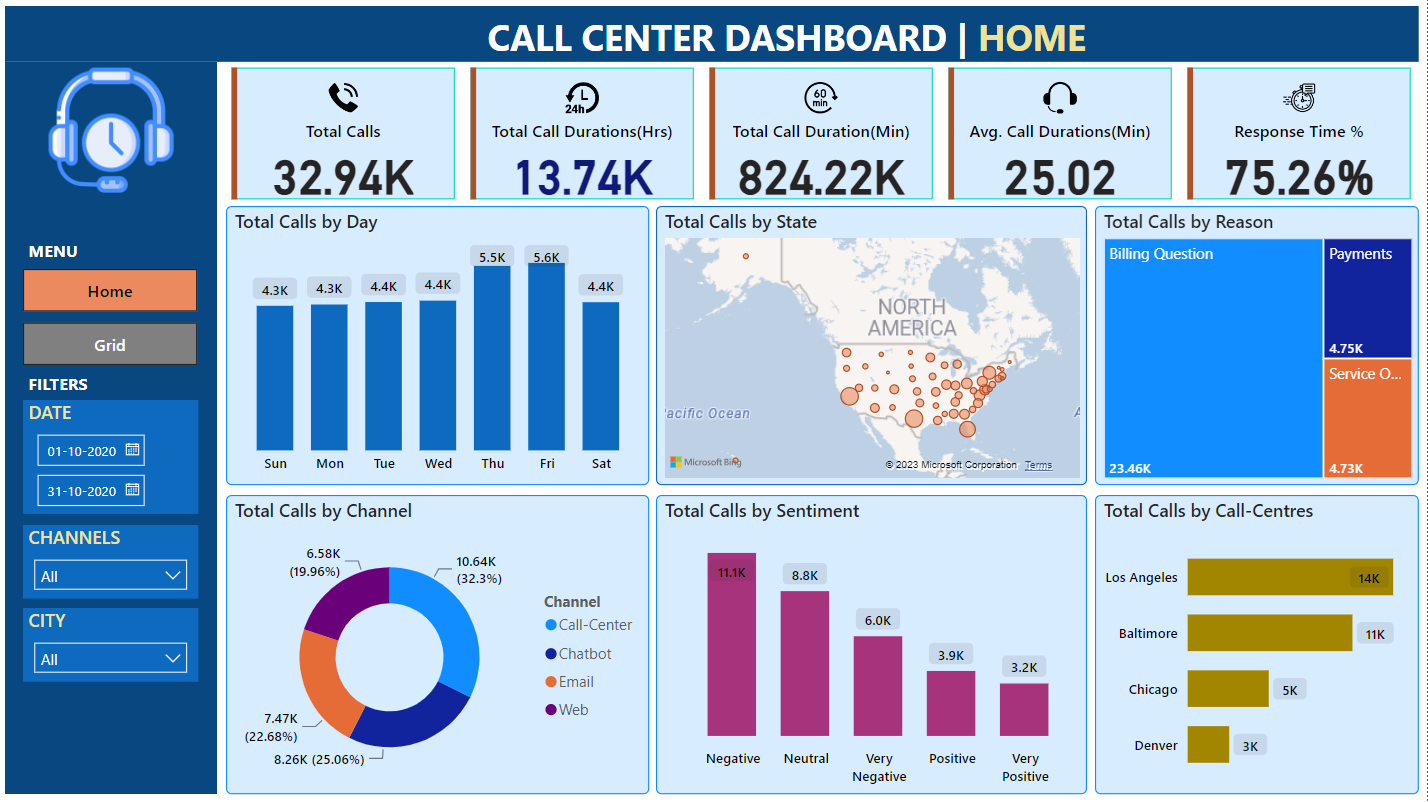

Layout of this report page (visuals, bound fields, positions):
{"tool":"powerbi","page":{"name":"Home","canvas":[1280,720],"ordinal":0},"visuals":[{"type":"shape","box":[6.3,7.2,1266.3,50],"z":0},{"type":"shape","box":[6.3,57.3,189.9,655.5],"z":1000},{"type":"cardVisual","fields":{"Data":["Call Center_Call Center.Total Calls","Call Center_Call Center.Total Call Durations(Hrs)","Call Center_Call Center.Total Call Duration(Min)","Call Center_Call Center.Avg. Call Durations(Min)","Call Center_Call Center.Response Time %"]},"box":[204.2,57.3,1068.4,129],"z":2000},{"type":"textbox","box":[433.4,7.2,578.5,57.3],"z":3000},{"type":"columnChart","fields":{"Category":["Date Table.Day"],"Y":["Call Center_Call Center.Total Calls"]},"box":[204.2,186.3,378.8,249.9],"z":4000},{"type":"map","fields":{"Category":["Call Center_Call Center.State"],"Size":["Call Center_Call Center.Total Calls"]},"box":[589.3,186.3,386,249.9],"z":5000},{"type":"treemap","fields":{"Group":["Call Center_Call Center.Reason"],"Values":["Call Center_Call Center.Total Calls"]},"box":[982.4,186.3,290.1,249.9],"z":6000},{"type":"donutChart","fields":{"Category":["Call Center_Call Center.Channel"],"Y":["Call Center_Call Center.Total Calls"]},"box":[204.2,445.1,378.8,267.8],"z":7000},{"type":"columnChart","fields":{"Category":["Call Center_Call Center.Sentiment"],"Y":["Call Center_Call Center.Total Calls"]},"box":[589.3,445.1,386,267.8],"z":8000},{"type":"barChart","title":"Total Calls by Call-Centres ","fields":{"Category":["Call Center_Call Center.Call-Centres City"],"Y":["Call Center_Call Center.Total Calls"]},"box":[982,445,290,268],"z":9000},{"type":"slicer","title":"DATE","fields":{"Values":["Date Table.Date"]},"box":[22.4,360,156.7,102.1],"z":10000},{"type":"slicer","title":"CHANNELS","fields":{"Values":["Call Center_Call Center.Channel"]},"box":[22.4,471.9,156.7,66.3],"z":11000},{"type":"slicer","title":"CITY","fields":{"Values":["Call Center_Call Center.City"]},"box":[22.4,546.3,156.7,66.3],"z":12000},{"type":"image","box":[6.3,57.3,189.9,121.8],"z":13000},{"type":"pageNavigator","box":[22.4,242.7,156.7,87.8],"z":14000},{"type":"textbox","box":[22.4,211.3,67.2,31.3],"z":15000},{"type":"textbox","box":[22.4,330.4,78.8,29.6],"z":16000}]}

Visuals, with their boxes in screenshot pixels (x1, y1, x2, y2), scaled from the page's 1280x720 canvas onto the 1428x802 screenshot:
shape: (7,8,1420,64)
shape: (7,64,219,794)
cardVisual - Call Center_Call Center.Total Calls x Call Center_Call Center.Total Call Durations(Hrs): (228,64,1420,208)
textbox: (484,8,1129,72)
columnChart - Date Table.Day x Call Center_Call Center.Total Calls: (228,208,650,486)
map - Call Center_Call Center.State x Call Center_Call Center.Total Calls: (657,208,1088,486)
treemap - Call Center_Call Center.Reason x Call Center_Call Center.Total Calls: (1096,208,1420,486)
donutChart - Call Center_Call Center.Channel x Call Center_Call Center.Total Calls: (228,496,650,794)
columnChart - Call Center_Call Center.Sentiment x Call Center_Call Center.Total Calls: (657,496,1088,794)
"Total Calls by Call-Centres " barChart: (1096,496,1419,794)
"DATE" slicer: (25,401,200,515)
"CHANNELS" slicer: (25,526,200,599)
"CITY" slicer: (25,609,200,682)
image: (7,64,219,199)
pageNavigator: (25,270,200,368)
textbox: (25,235,100,270)
textbox: (25,368,113,401)
